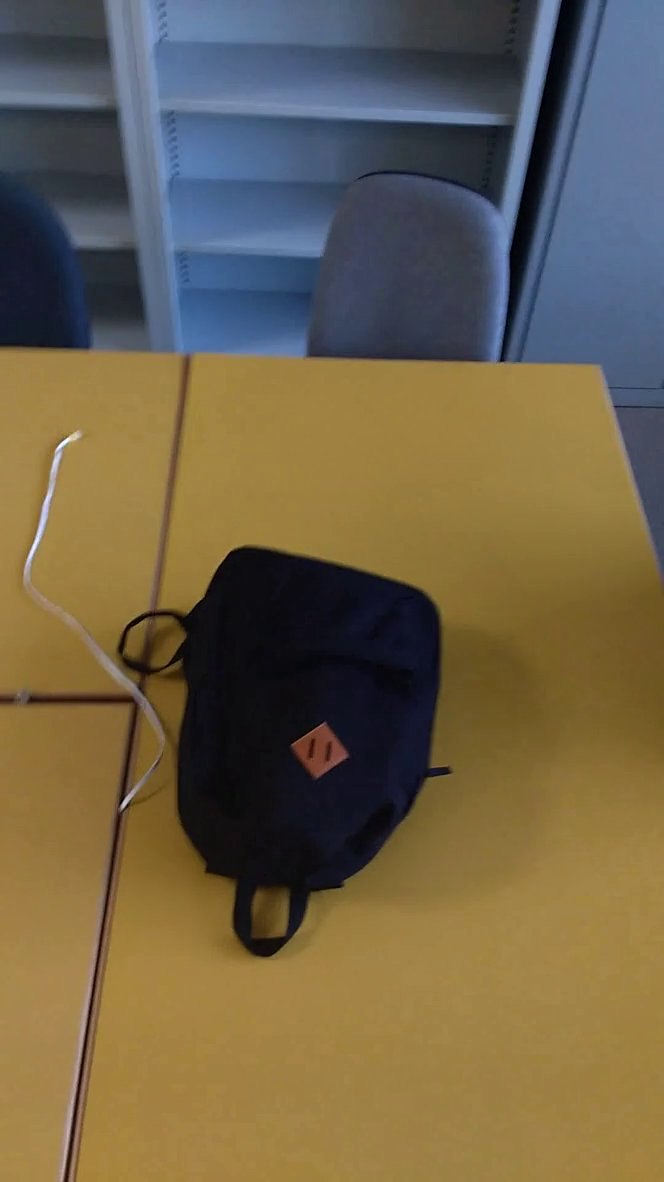bag: (114, 536, 469, 968)
chair: (290, 159, 538, 408)
